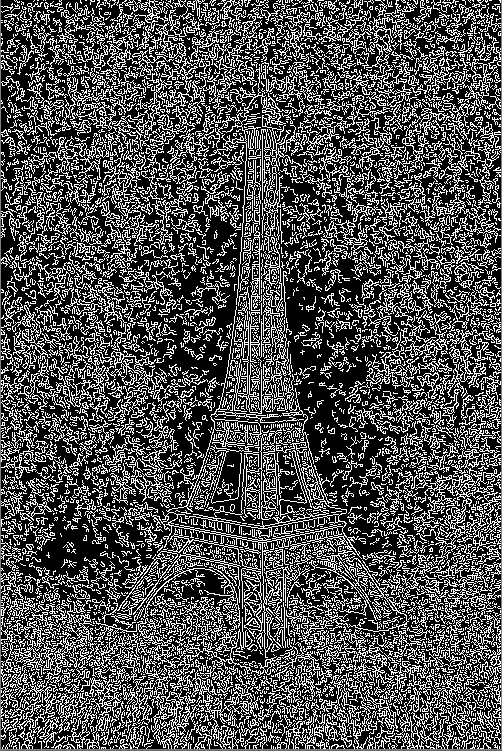eiffel tower: (143, 52, 400, 655)
